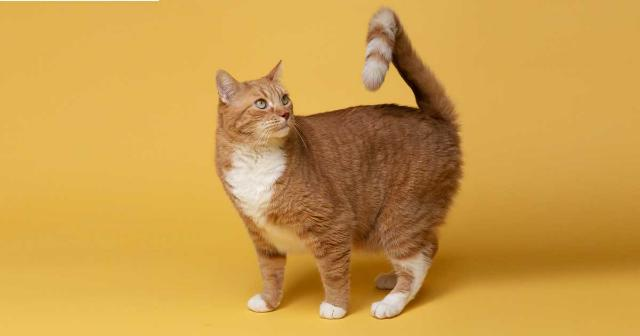cat: (191, 5, 491, 324)
